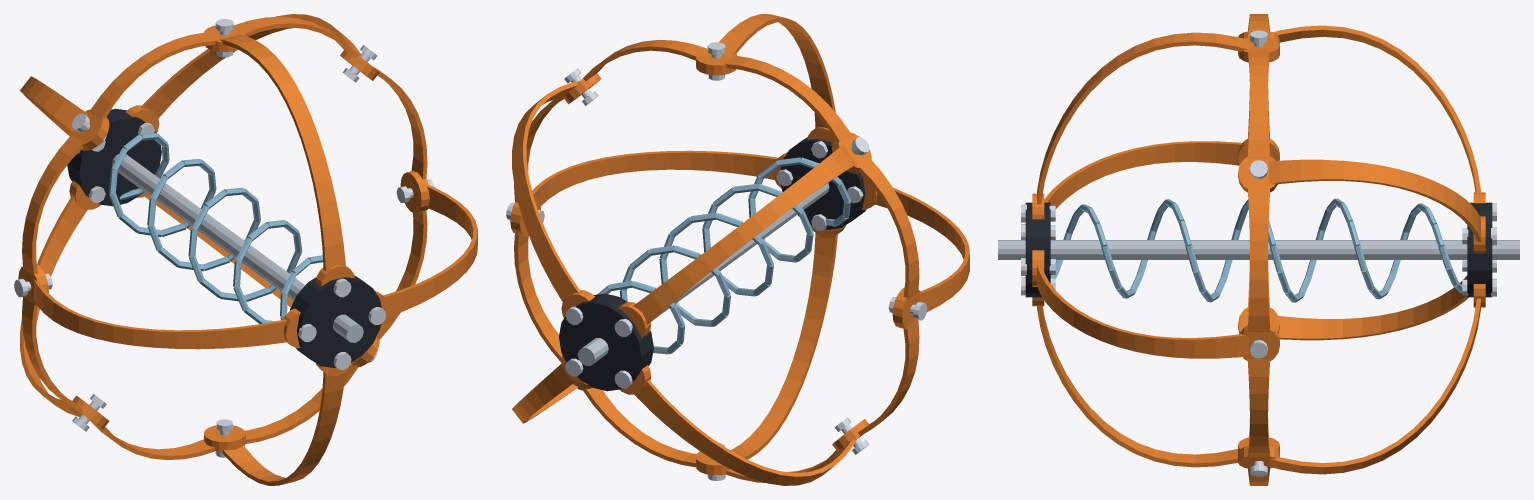
File: unit_cell_equatorial_d88.obj
3 views of the same model, side by side, from view 1: azimuth 30°, elevation 25°; view 2: azimuth 150°, elevation 25°; view 3: azimuth 270°, elevation 25° (orthographic).
Visible parts, largest first — view 1: links_equatorial, collars, spring, shaft, pins; view 2: links_equatorial, collars, spring, pins, shaft; view 3: links_equatorial, shaft, spring, collars, pins.
Boxes of the visible parts, <box> form: links_equatorial: <box>18,14,477,485</box>; collars: <box>67,108,381,367</box>; spring: <box>109,132,322,323</box>; shaft: <box>112,154,363,342</box>; pins: <box>14,19,434,457</box>; links_equatorial: <box>510,14,969,485</box>; collars: <box>559,137,865,391</box>; spring: <box>597,157,850,354</box>; pins: <box>506,42,927,480</box>; shaft: <box>577,183,829,365</box>; links_equatorial: <box>1032,14,1485,485</box>; shaft: <box>998,240,1519,259</box>; spring: <box>1050,198,1462,302</box>; collars: <box>1025,202,1492,297</box>; pins: <box>1021,30,1496,476</box>.
Bounding box in the file's own units: 94.9 × 94.9 × 104.
